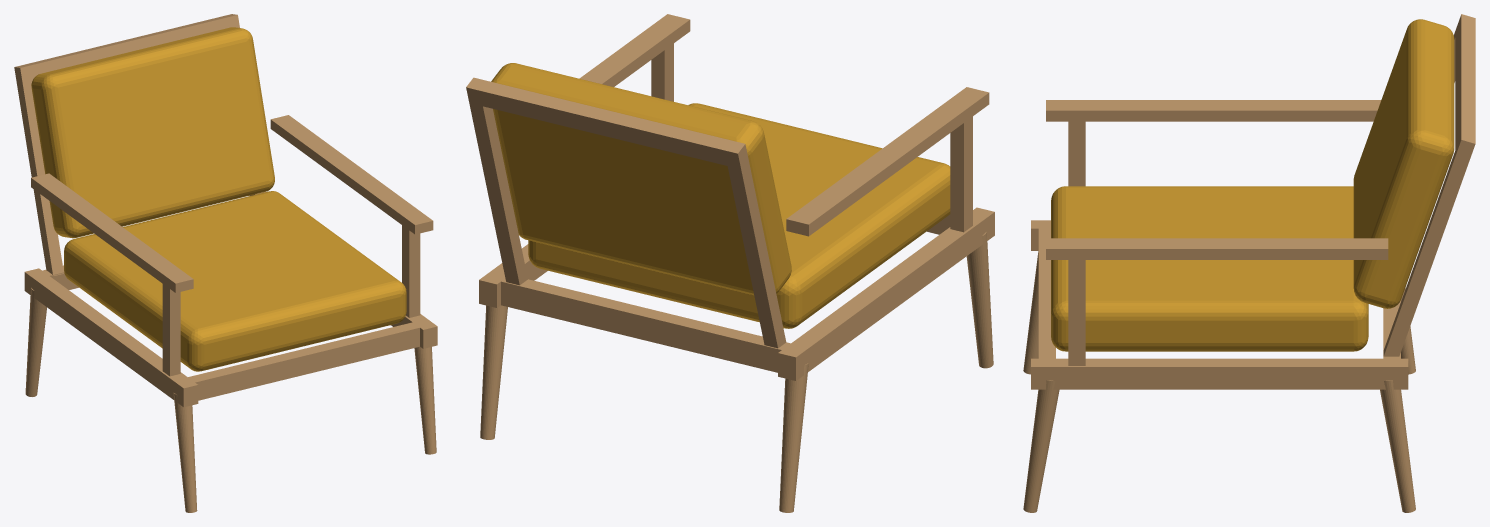
File: 010_lounge_chair.glb
3 views of the same model, side by side, from view 1: azimuth 30°, elevation 25°; view 2: azimuth 150°, elevation 25°; view 3: azimuth 270°, elevation 25° (orthographic). The views are drawn at different scales.
Visible parts, largest first — view 1: 016_back_cushion, 012_seat_cushion, 006_front_rail, 004_side_rail_l, 011_armrest, 009_armrest, 015_back_top_rail, 013_back_frame_l, 001_leg, 003_leg, 008_arm_post_front, 010_arm_post_front (+2 smaller); view 2: 016_back_cushion, 012_seat_cushion, 007_back_rail, 004_side_rail_l, 015_back_top_rail, 009_armrest, 013_back_frame_l, 014_back_frame_r, 011_armrest, 000_leg, 002_leg, 008_arm_post_front (+3 smaller); view 3: 012_seat_cushion, 016_back_cushion, 005_side_rail_r, 011_armrest, 009_armrest, 014_back_frame_r, 015_back_top_rail, 002_leg, 003_leg, 010_arm_post_front, 006_front_rail, 008_arm_post_front (+1 smaller).
Part boxes in pixels (x1,y1,x2,y2): 016_back_cushion: (31,27,274,238); 012_seat_cushion: (64,191,406,371); 006_front_rail: (188,322,419,400); 004_side_rail_l: (24,268,198,407); 011_armrest: (270,115,433,234); 009_armrest: (31,173,193,292); 015_back_top_rail: (14,14,239,84); 013_back_frame_l: (15,69,63,276); 001_leg: (173,393,197,512); 003_leg: (414,346,436,454); 008_arm_post_front: (162,284,180,376); 010_arm_post_front: (402,225,420,317); 016_back_cushion: (491,63,791,295); 012_seat_cushion: (528,103,950,328); 007_back_rail: (501,278,790,372); 004_side_rail_l: (778,207,994,380); 015_back_top_rail: (466,77,748,168); 009_armrest: (786,87,989,236); 013_back_frame_l: (725,148,786,348); 014_back_frame_r: (467,91,527,285); 011_armrest: (579,14,690,86); 000_leg: (779,363,808,512); 002_leg: (480,305,507,439); 008_arm_post_front: (950,116,972,232); 012_seat_cushion: (1051,186,1368,351); 016_back_cushion: (1353,19,1454,308); 005_side_rail_r: (1031,358,1408,389); 011_armrest: (1046,238,1388,259); 009_armrest: (1046,100,1381,121); 014_back_frame_r: (1383,138,1473,356); 015_back_top_rail: (1455,14,1475,157); 002_leg: (1380,380,1415,512); 003_leg: (1023,380,1059,512); 010_arm_post_front: (1068,260,1085,365); 006_front_rail: (1038,228,1055,358); 008_arm_post_front: (1068,121,1085,186).
Bounding box in the file's own units: 0.71 × 0.8146 × 0.9113.
